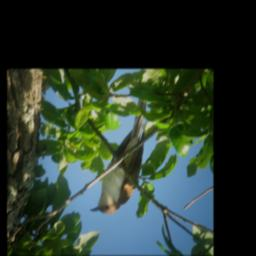Cuckoo: (88, 94, 149, 216)
